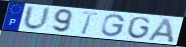9: (50, 9, 74, 34)
A: (146, 17, 176, 44)
G: (126, 16, 152, 40), (100, 13, 126, 37)
T: (80, 10, 100, 36)
U: (22, 5, 53, 32)
